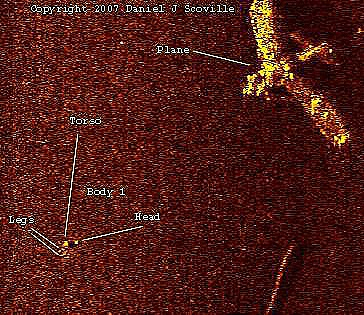aircraft: (238, 0, 355, 147)
